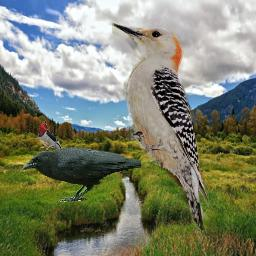Crow: (21, 147, 141, 203)
Woodpecker: (110, 13, 217, 244), (37, 119, 66, 156)
